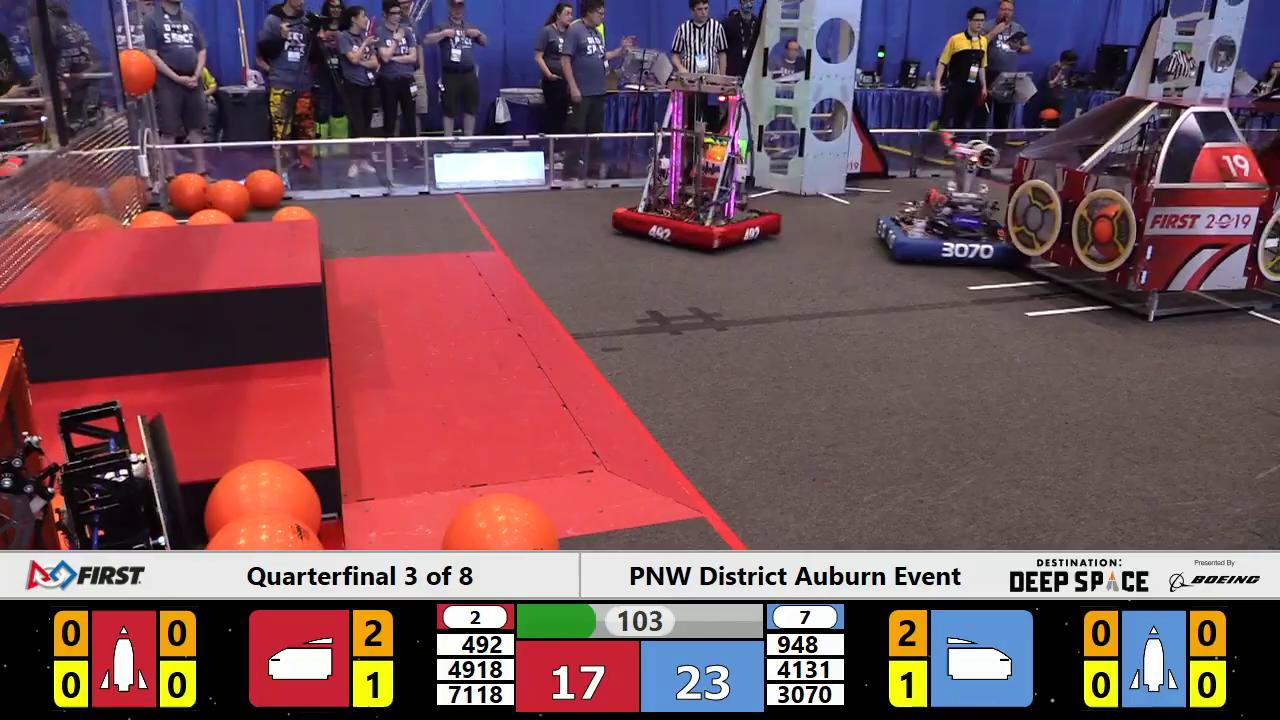robot: (611, 75, 777, 249), (880, 142, 1014, 269)
